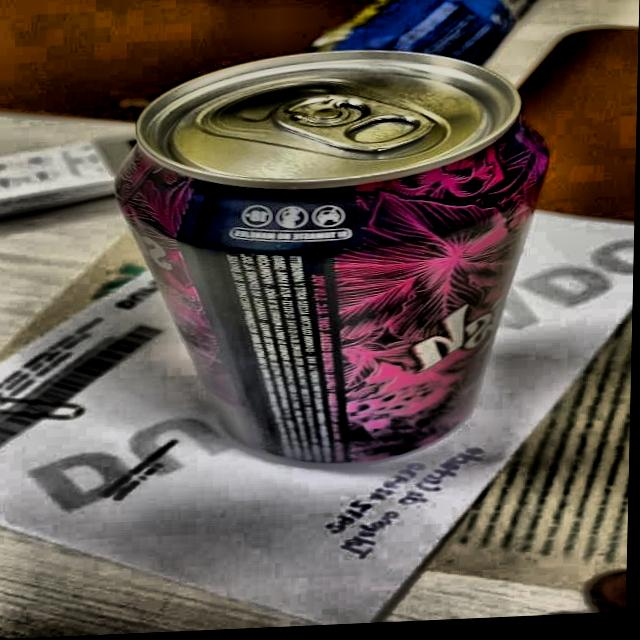can: (105, 40, 558, 480)
